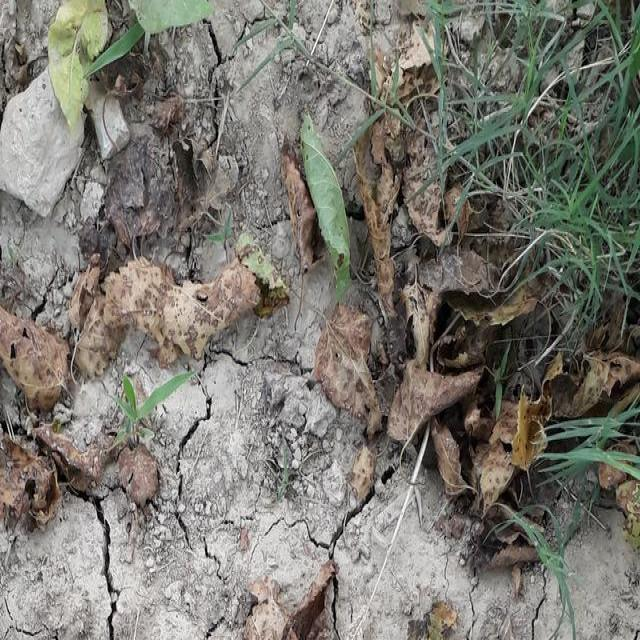weed: (442, 0, 640, 271), (486, 490, 586, 640), (549, 400, 640, 495), (106, 372, 202, 432)
